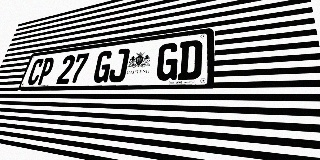2: (56, 54, 76, 84)
7: (68, 53, 89, 84)
C: (26, 58, 45, 85)
D: (177, 39, 203, 80)
G: (155, 42, 180, 81), (92, 50, 114, 83)
J: (107, 48, 130, 82)
P: (36, 57, 56, 85)
